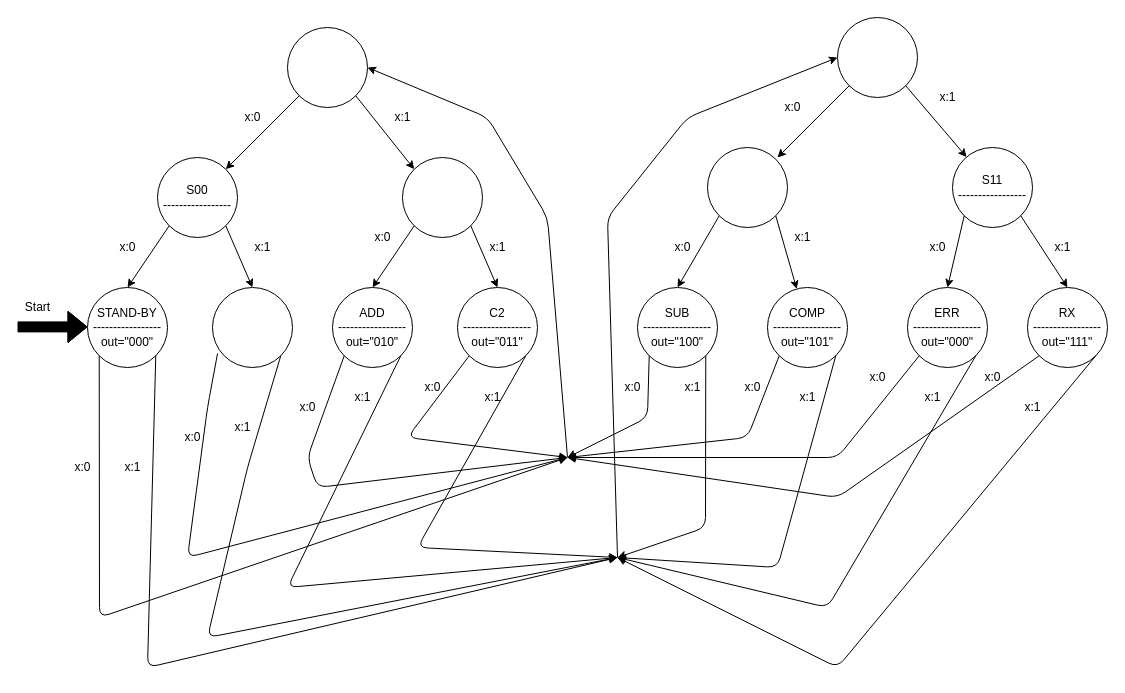
Some shapes in this 1125 by 693 pixel diagram are drawn without their labels. The centre of each missing label's shape, as x and y in pixels:
S0 -----------------: pixel 327 67
S01 -----------------: pixel 442 197
S1 -----------------: pixel 877 57
S10 -----------------: pixel 747 187
TX ----------------- out=''001": pixel 252 327
